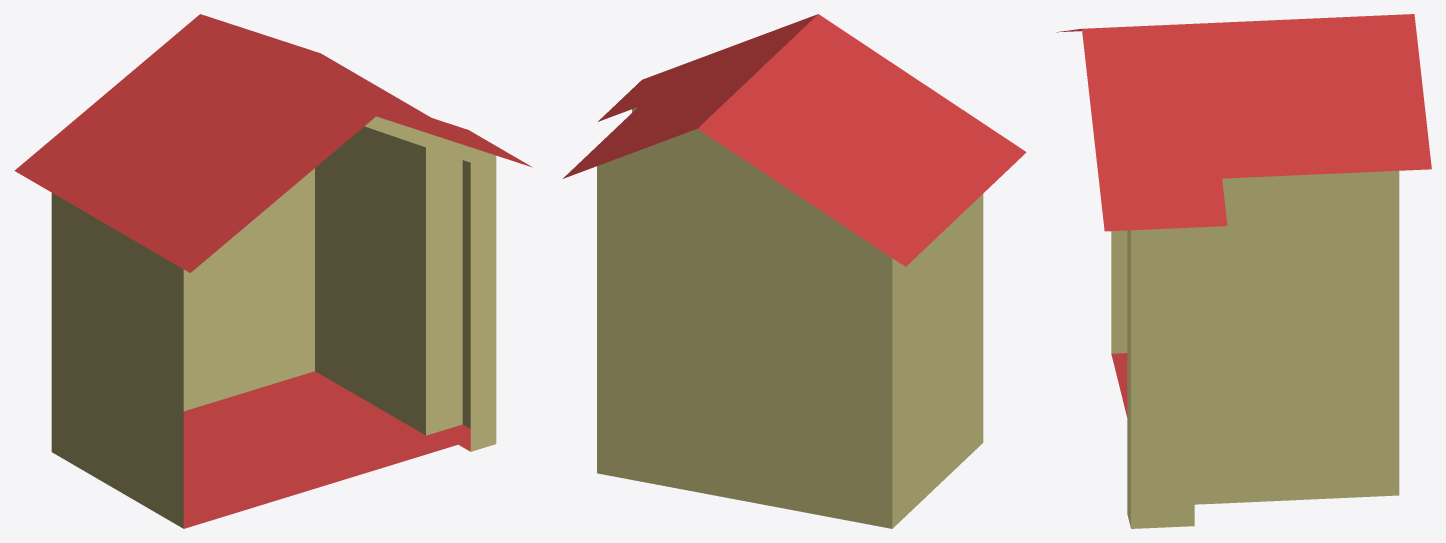
3 renders of one model, left to right at view 1: azimuth 30°, elevation 25°; view 2: azimuth 150°, elevation 25°; view 3: azimuth 270°, elevation 25°, orthographic. The views are drawn at different scales.
Bounding box in the file's own units: 12.76 × 9.5 × 11.75.
